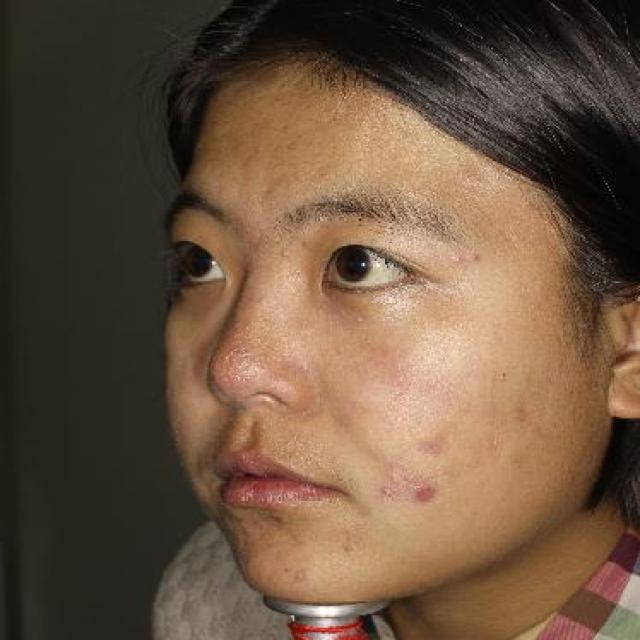Acne: (407, 426, 461, 462), (402, 478, 445, 509), (284, 563, 315, 591), (375, 480, 400, 502)
Blackheads: (464, 248, 486, 264)
Dark-Spots: (496, 366, 512, 382)
Whiteheads: (448, 248, 469, 268), (252, 290, 272, 308)
